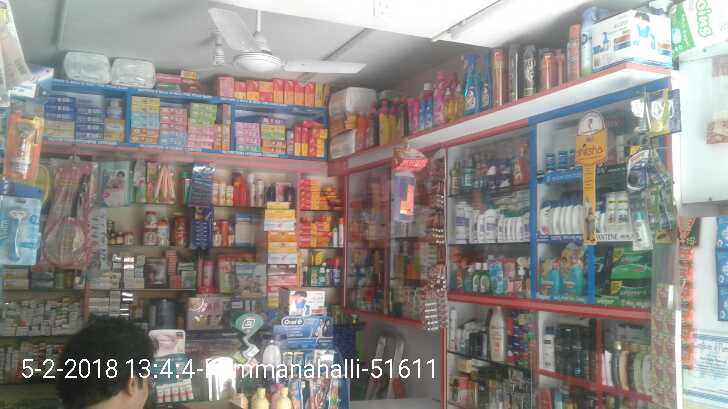beauty: (1, 194, 37, 263)
pharmacy: (607, 243, 654, 279), (558, 239, 585, 294), (606, 278, 649, 302), (538, 256, 558, 295)
